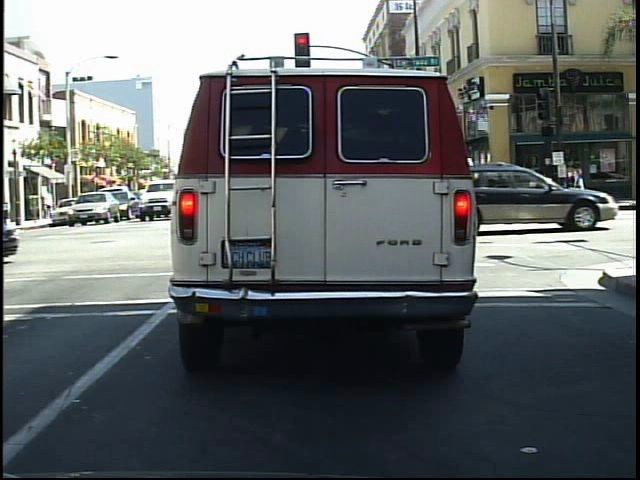person: (552, 146, 576, 210), (537, 154, 561, 212), (514, 157, 538, 211), (572, 157, 592, 208)
